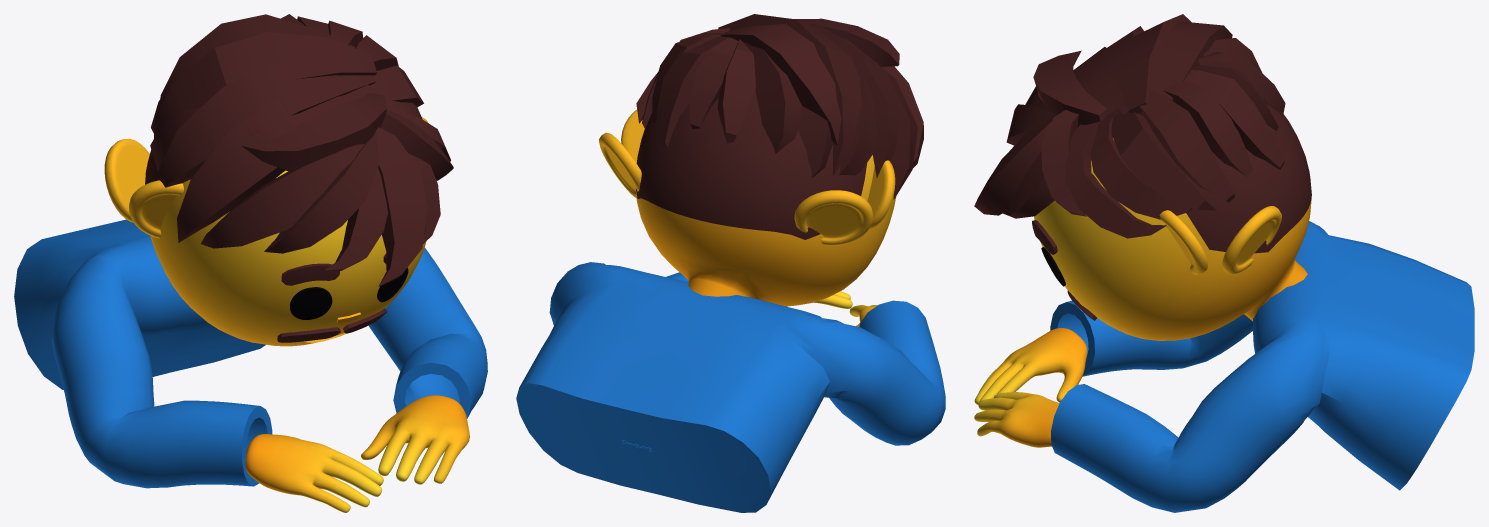
Rendered from man_bowing.fbx.
3 renders of one model, left to right at view 1: azimuth 30°, elevation 25°; view 2: azimuth 150°, elevation 25°; view 3: azimuth 270°, elevation 25°, orthographic. The views are drawn at different scales.
Visible parts, largest first — view 1: Cube.795, Circle.498, Roundcube.064, hand.125, hand.127, ears.054, Circle.495, Circle.499, Circle.497; view 2: Circle.498, Roundcube.064, Cube.795, ears.054; view 3: Circle.498, Cube.795, Roundcube.064, hand.125, hand.127, ears.054.
Boxes of the visible parts, x1,y1,x2,y2 form: Cube.795: (150, 14, 453, 286); Circle.498: (14, 219, 487, 488); Roundcube.064: (145, 150, 426, 346); hand.125: (245, 434, 383, 512); hand.127: (361, 395, 469, 484); ears.054: (104, 117, 427, 238); Circle.495: (290, 268, 408, 319); Circle.499: (277, 308, 387, 342); Circle.497: (281, 253, 386, 285); Circle.498: (516, 262, 945, 512); Roundcube.064: (621, 90, 896, 452); Cube.795: (636, 14, 923, 199); ears.054: (599, 109, 895, 245); Circle.498: (1050, 221, 1474, 512); Cube.795: (974, 14, 1285, 238); Roundcube.064: (1034, 104, 1311, 340); hand.125: (974, 328, 1087, 404); hand.127: (974, 392, 1059, 447); ears.054: (1157, 206, 1281, 274).
Bounding box in the file's own units: 199 × 209 × 229.
2 materials, 2 textured.
